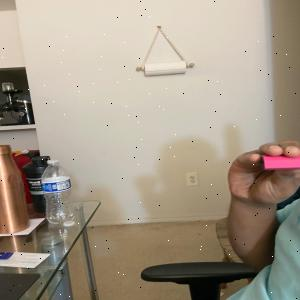Blume-E-Ciggirate: (257, 149, 300, 173)
